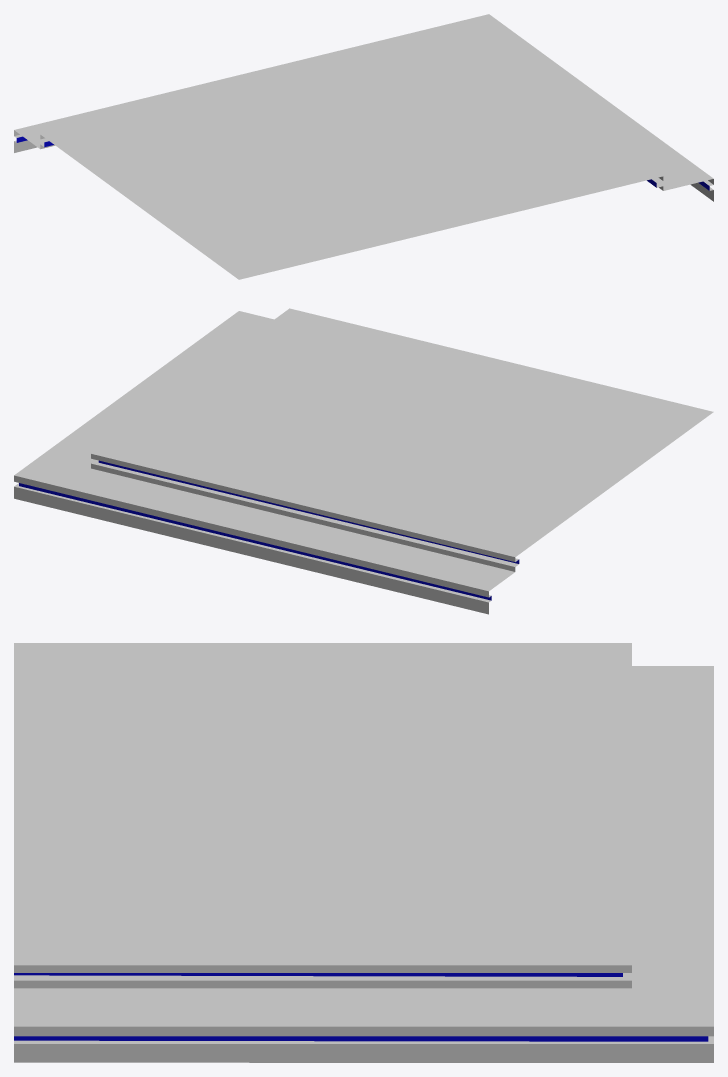
File: Pedestal.001.fbx
The picture shows the model from 3 angles, top to bottom: view 1: azimuth 30°, elevation 25°; view 2: azimuth 150°, elevation 25°; view 3: azimuth 270°, elevation 25°; orthographic projection. The views are drawn at different scales.
Parts seen in each view (by area): view 1: Pedestal.001; view 2: Pedestal.001; view 3: Pedestal.001.
Boxes of the visible parts, x1,y1,x2,y2 form: Pedestal.001: (14,14,713,279); Pedestal.001: (14,308,713,614); Pedestal.001: (14,643,713,1062).
Size of the model in its own units: 5.77 by 0.4409 by 4.73.
